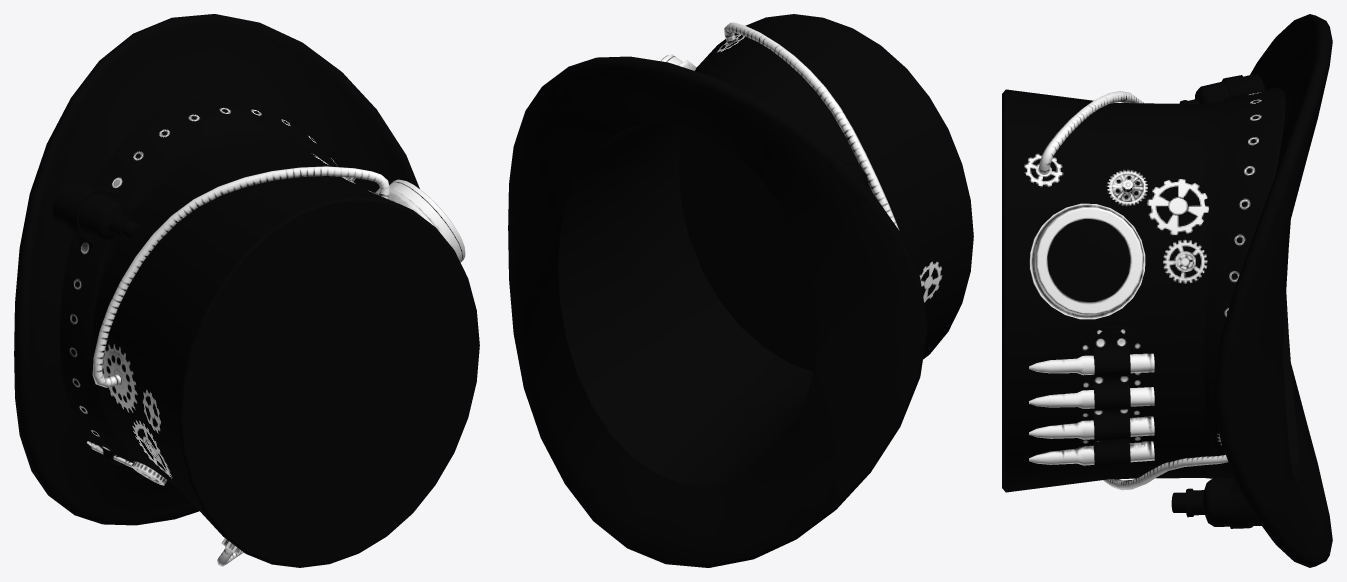
File: Piazza Hat.fbx
3 renders of one model, left to right at view 1: azimuth 30°, elevation 25°; view 2: azimuth 150°, elevation 25°; view 3: azimuth 270°, elevation 25°, orthographic. The views are drawn at different scales.
Parts seen in each view (by area): view 1: model_0; view 2: model_0; view 3: model_0.
Part boxes in pixels (x1,y1,x2,y2): model_0: (14,14,479,567); model_0: (508,14,973,567); model_0: (1002,14,1332,567).
Bounding box in the file's own units: 2638 × 3033 × 1767.
Materials: 1 (1 with a texture image).
